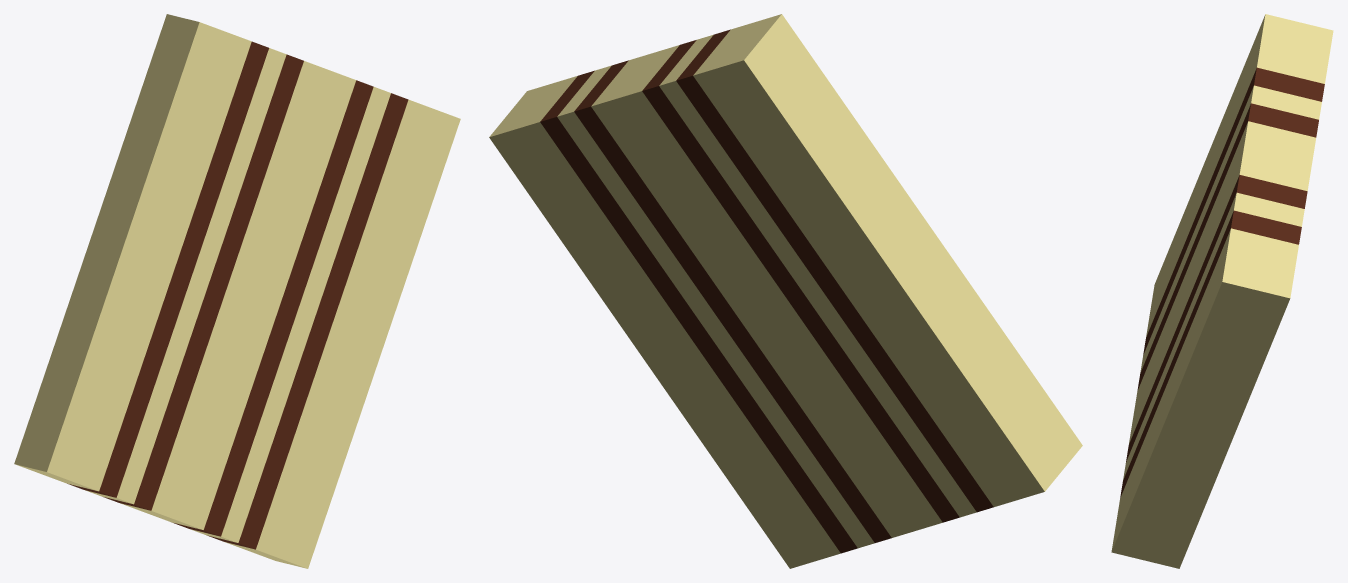
File: drop_biscoito.fbx
3 views of the same model, side by side, from view 1: azimuth 30°, elevation 25°; view 2: azimuth 150°, elevation 25°; view 3: azimuth 270°, elevation 25° (orthographic). The views are drawn at different scales.
Visible parts, largest first — view 1: chocolate; view 2: chocolate; view 3: chocolate.
Boxes of the visible parts, x1=… form: chocolate: x1=14, y1=14, x2=460, y2=568; chocolate: x1=489, y1=14, x2=1082, y2=568; chocolate: x1=1111, y1=14, x2=1333, y2=568.
Size of the model in its own units: 322 by 356 by 133.
